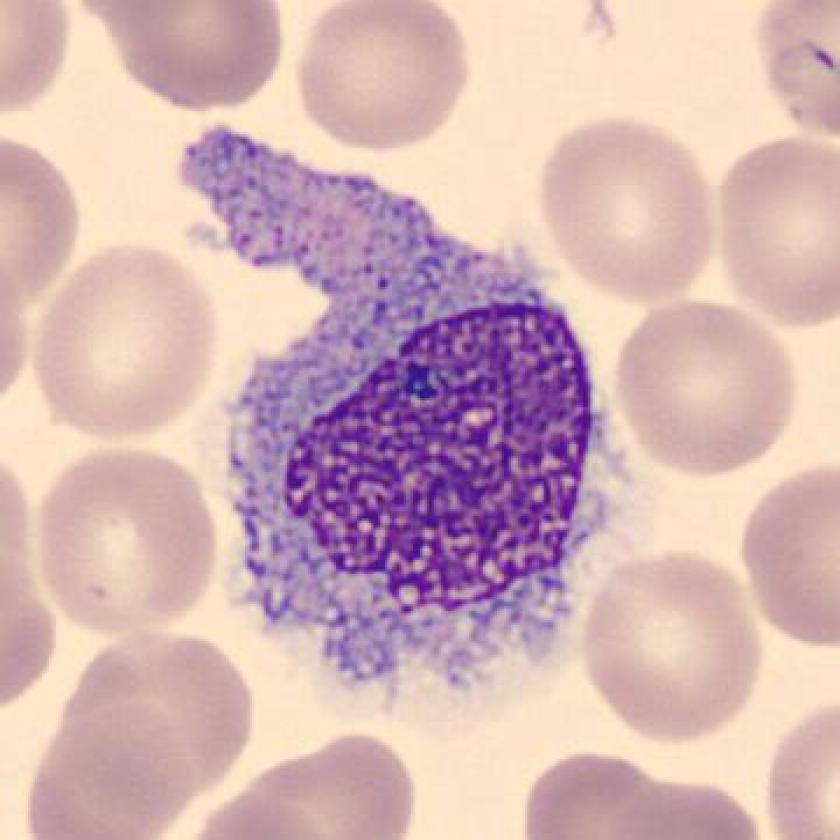monocyte: (155, 101, 645, 698)
